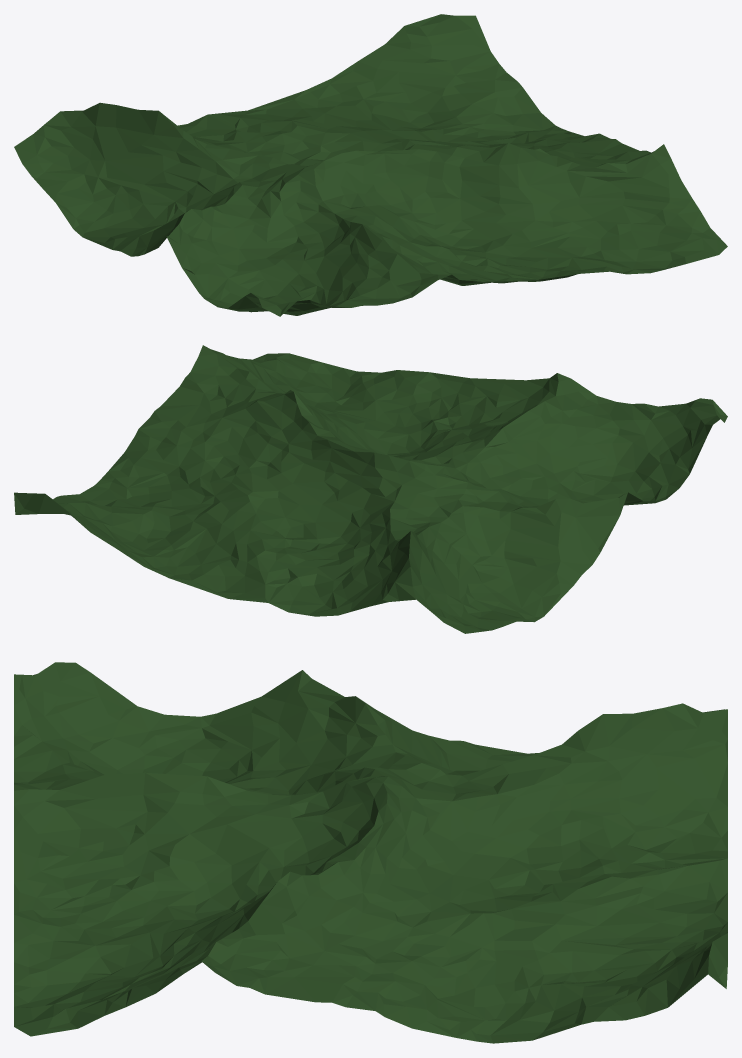
The model's file is SM_landscape_03.fbx.
3 views of the same model, one above another, from view 1: azimuth 30°, elevation 25°; view 2: azimuth 150°, elevation 25°; view 3: azimuth 270°, elevation 25° (orthographic). The views are drawn at different scales.
Parts seen in each view (by area): view 1: landscape_03; view 2: landscape_03; view 3: landscape_03.
Part boxes in pixels (x1,y1,x2,y2): landscape_03: (14,14,727,316); landscape_03: (14,345,727,633); landscape_03: (14,662,727,1043).
Size of the model in its own units: 2224 by 372 by 2224.
